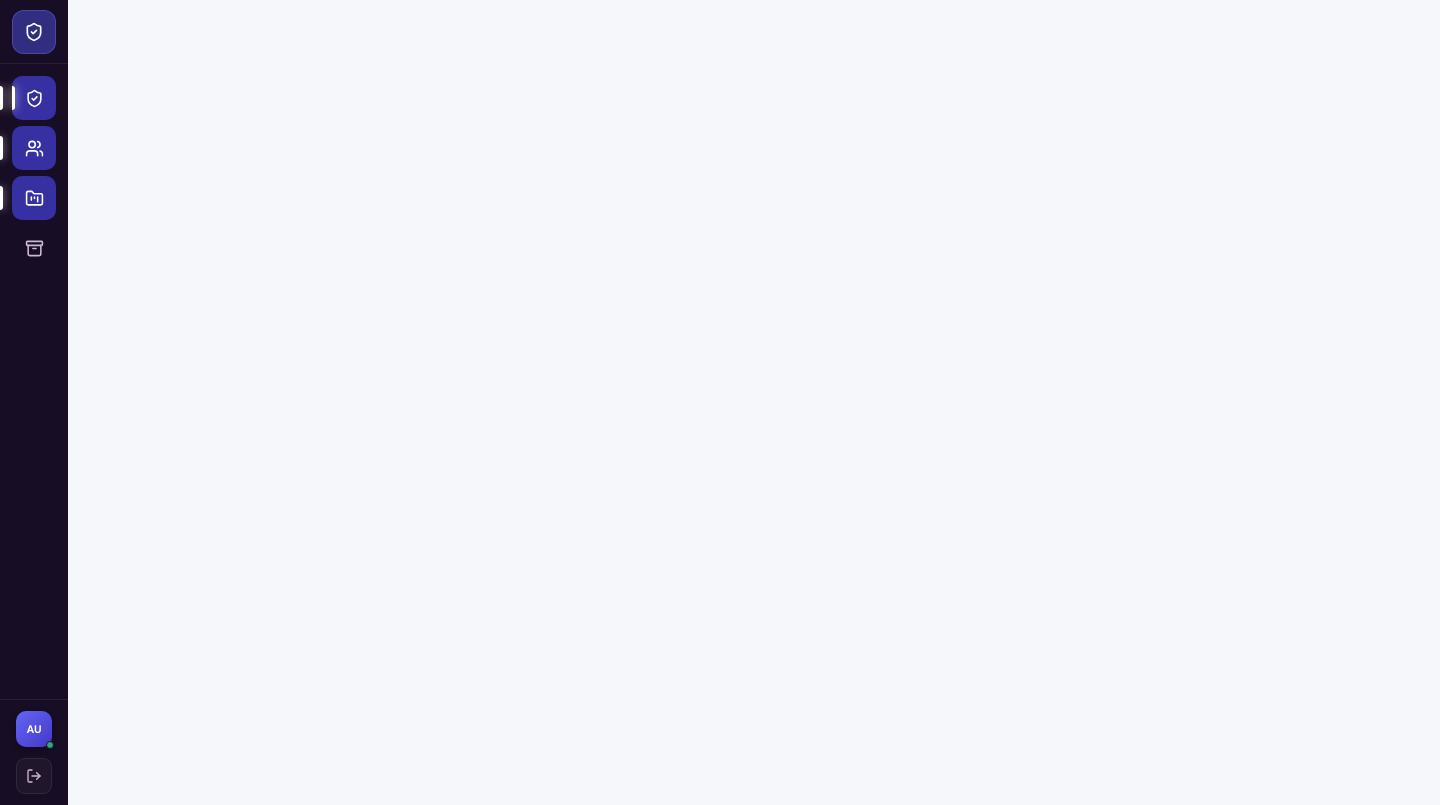
Test: Admin area › admin sidebar opens User Management and marks it active
This screenshot has width=1440, height=805.
Click the link named "User Management": coordinates (34, 148) [12, 126, 56, 170]
(page scrolled)
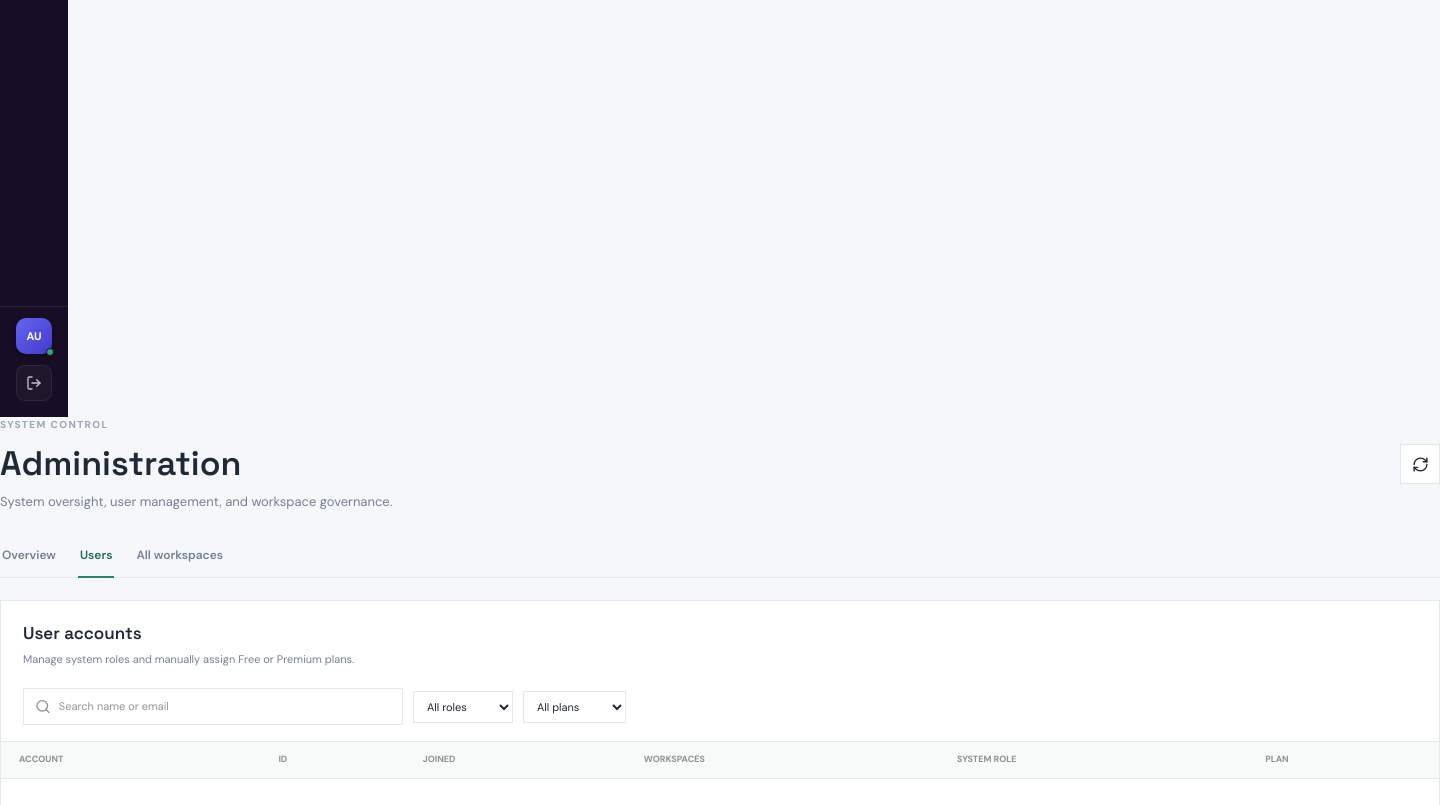
Expected: the heading "User accounts" is shown, [23, 622, 142, 644]
